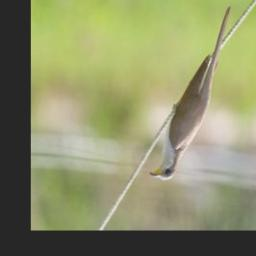Cuckoo: (148, 1, 234, 181)
